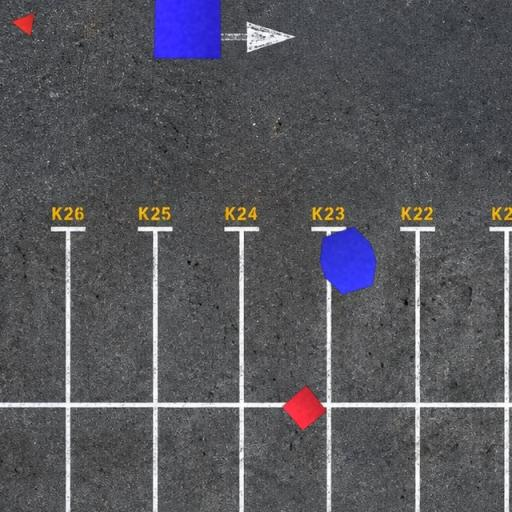BLUE_SQUARE: (153, 0, 222, 60)
RED_SQUARE: (282, 385, 327, 431)
